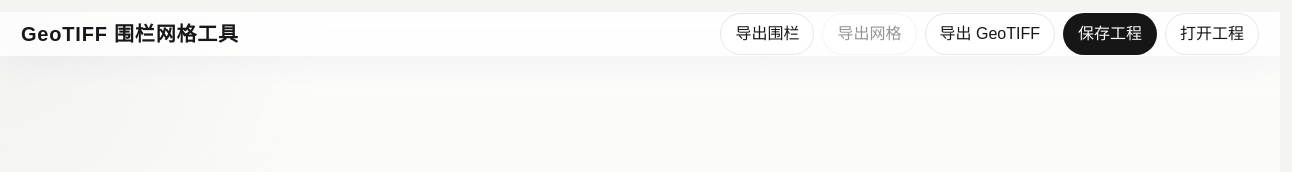
Scenario: ExportControls › embeds the current project snapshot and surfaces embed warnings
This screenshot has width=1292, height=172.
Click the button "导出 GeoTIFF" at (990, 34), box [924,13,1055,55]
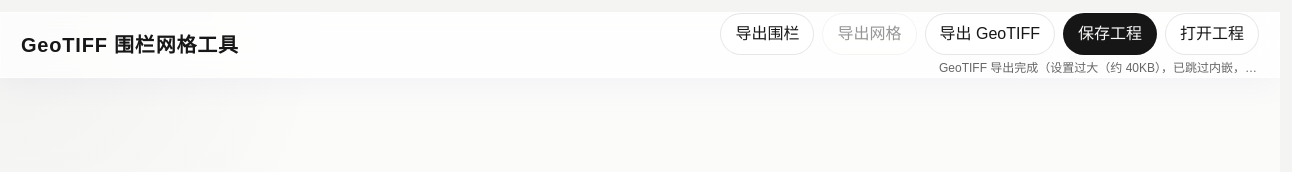
Now the text "GeoTIFF 导出完成（设置过大（约 40KB），已跳过内嵌，请另存工程文件。）" is shown, box [939,59,1259,77]
